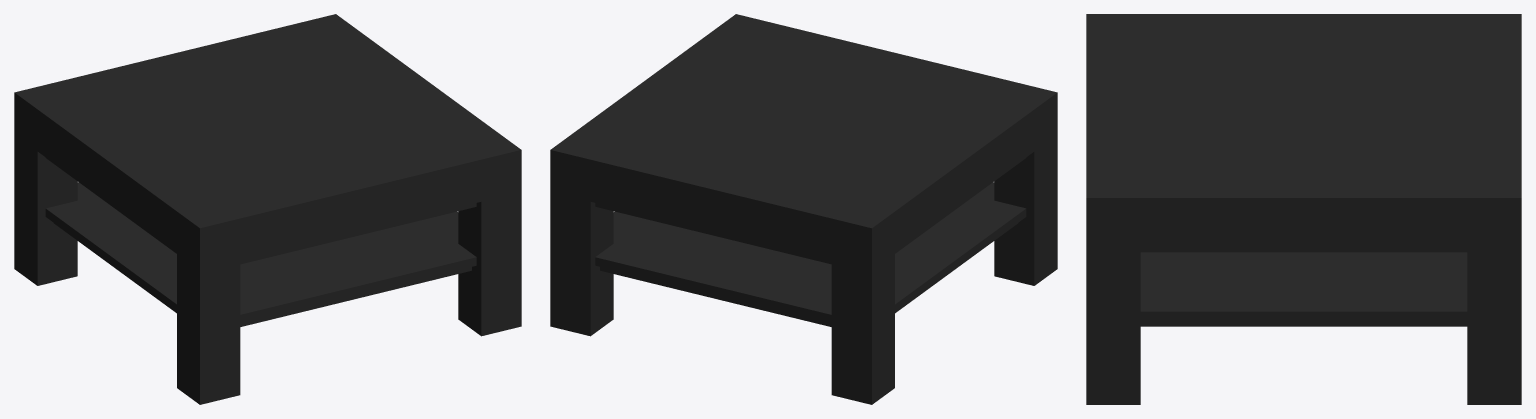
Rendered from CoffeeTable.obj.
3 renders of one model, left to right at view 1: azimuth 30°, elevation 25°; view 2: azimuth 150°, elevation 25°; view 3: azimuth 270°, elevation 25°, orthographic. The views are drawn at different scales.
Visible parts, largest first — view 1: CoffeeTable; view 2: CoffeeTable; view 3: CoffeeTable.
Boxes of the visible parts, x1,y1,x2,y2 form: CoffeeTable: [14, 14, 521, 404]; CoffeeTable: [550, 14, 1057, 404]; CoffeeTable: [1086, 14, 1521, 404].
Bounding box in the file's own units: 40 × 21 × 40.
1 material, 1 textured.
